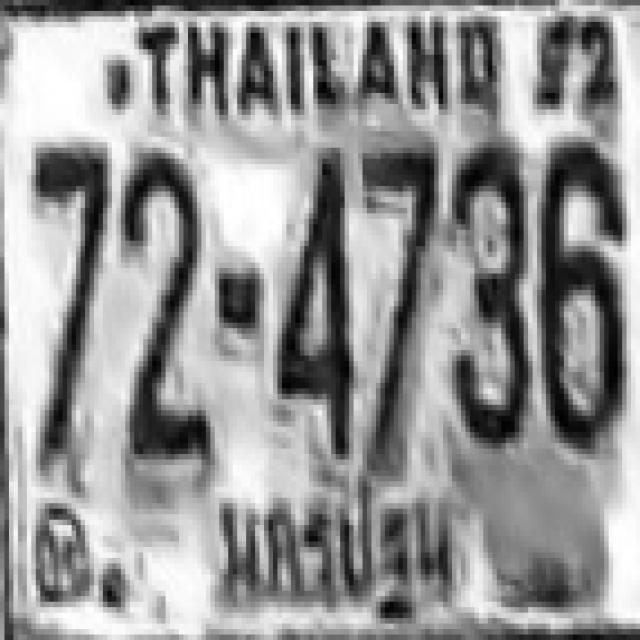2: (119, 148, 199, 388), (123, 162, 199, 408)
3: (448, 148, 528, 443), (448, 181, 528, 443)
4: (273, 145, 349, 446), (273, 145, 349, 397)
7: (29, 140, 110, 374), (361, 145, 436, 331)
NPT: (206, 472, 475, 630)
